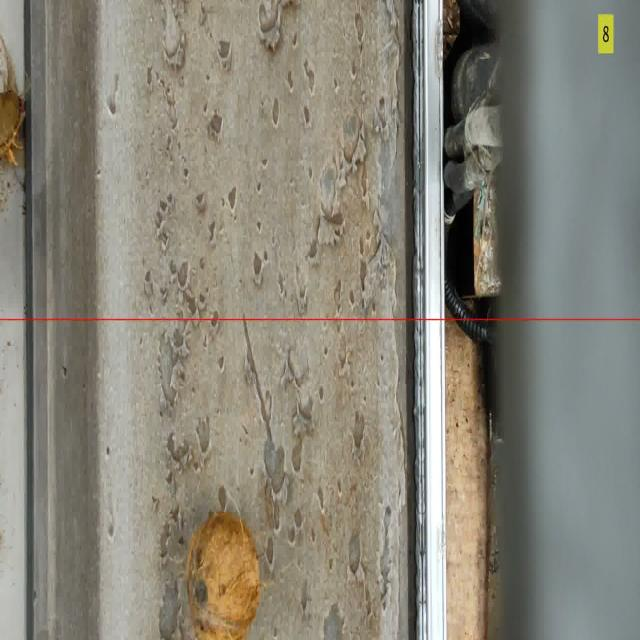Coconut-Conveyor-Belt: (189, 513, 259, 639)
